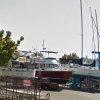Boat: (14, 50, 97, 89)
